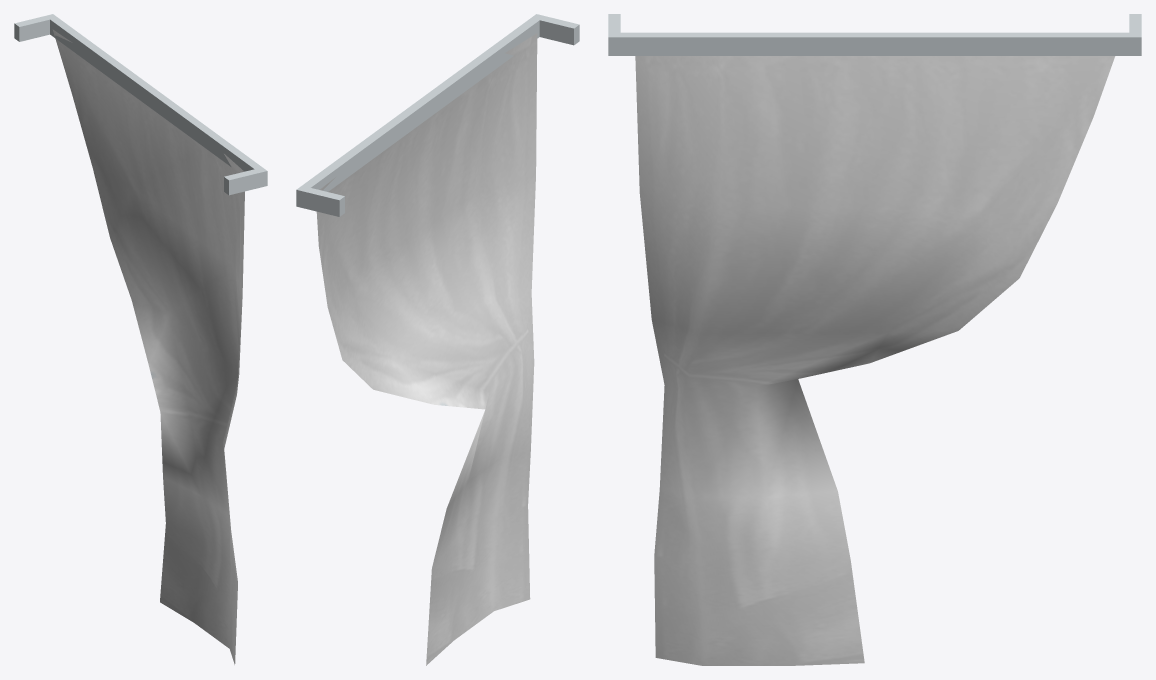
The model's file is Curtain_B.FBX.
The picture shows the model from 3 angles, left to right: view 1: azimuth 30°, elevation 25°; view 2: azimuth 150°, elevation 25°; view 3: azimuth 270°, elevation 25°; orthographic projection. The views are drawn at different scales.
Visible parts, largest first — view 1: Curtain_B; view 2: Curtain_B; view 3: Curtain_B.
Part boxes in pixels (left/top/right/bottom): Curtain_B: left=14, top=14, right=267, bottom=664; Curtain_B: left=296, top=14, right=579, bottom=665; Curtain_B: left=608, top=14, right=1141, bottom=665.
Size of the model in its own units: 9.54 by 84.05 by 64.61.
